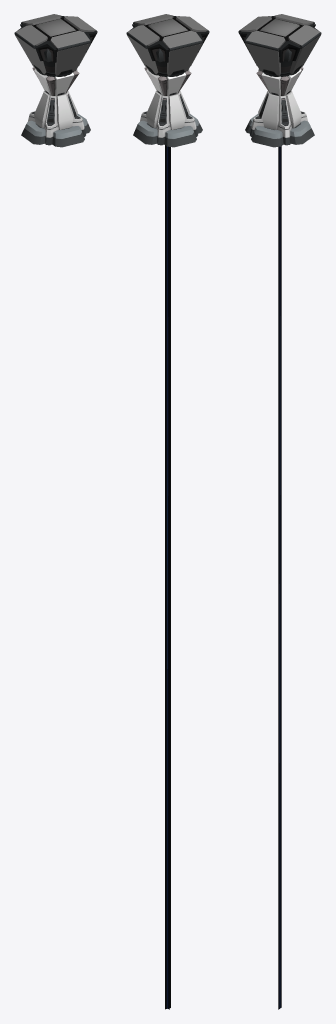
The model's file is orbital-substation.glb.
The picture shows the model from 3 angles, left to right: view 1: azimuth 30°, elevation 25°; view 2: azimuth 210°, elevation 25°; view 3: azimuth 330°, elevation 25°; orthographic projection.
Parts seen in each view (by area): view 1: orbital-substation-a, orbital-substation-c, orbital-substation-d-1, orbital-substation-d-2; view 2: Quad(0), orbital-substation-a, orbital-substation-c, Quad(1), orbital-substation-d-3, orbital-substation-d-4; view 3: Quad(1), orbital-substation-a, orbital-substation-c, orbital-substation-d-1, orbital-substation-d-4.
Part boxes in pixels (x1,y1,x2,y2): orbital-substation-a: (21,67,90,147); orbital-substation-c: (16,14,96,76); orbital-substation-d-1: (55,40,90,75); orbital-substation-d-2: (14,32,46,74); Quad(0): (165,145,170,1009); orbital-substation-a: (133,67,202,147); orbital-substation-c: (128,14,208,76); Quad(1): (168,146,169,1009); orbital-substation-d-3: (167,40,202,75); orbital-substation-d-4: (126,32,158,74); Quad(1): (278,146,281,1009); orbital-substation-a: (245,67,314,147); orbital-substation-c: (239,14,319,76); orbital-substation-d-1: (245,40,280,75); orbital-substation-d-4: (289,32,321,74).
Bounding box in the file's own units: 4.23 × 61.78 × 4.23.
Materials: 2 (2 with a texture image).
